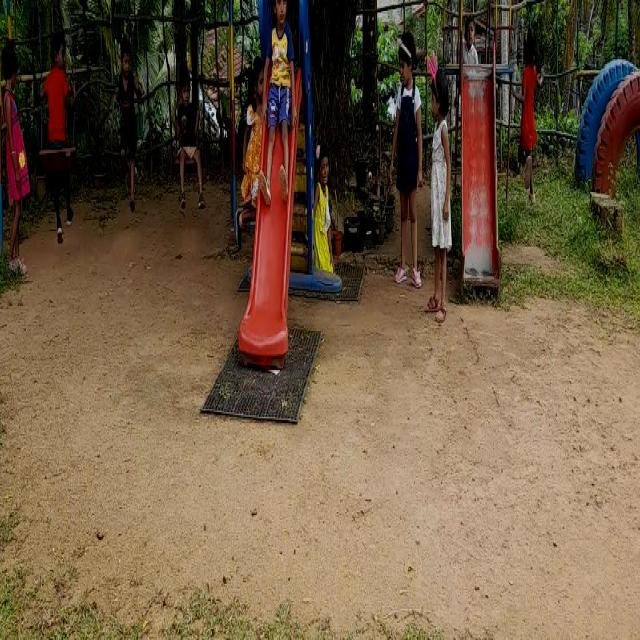child: (418, 55, 456, 324), (0, 33, 32, 278), (262, 0, 299, 204), (46, 12, 74, 236), (116, 21, 147, 208), (518, 32, 544, 199), (178, 43, 200, 207), (314, 103, 334, 278)
